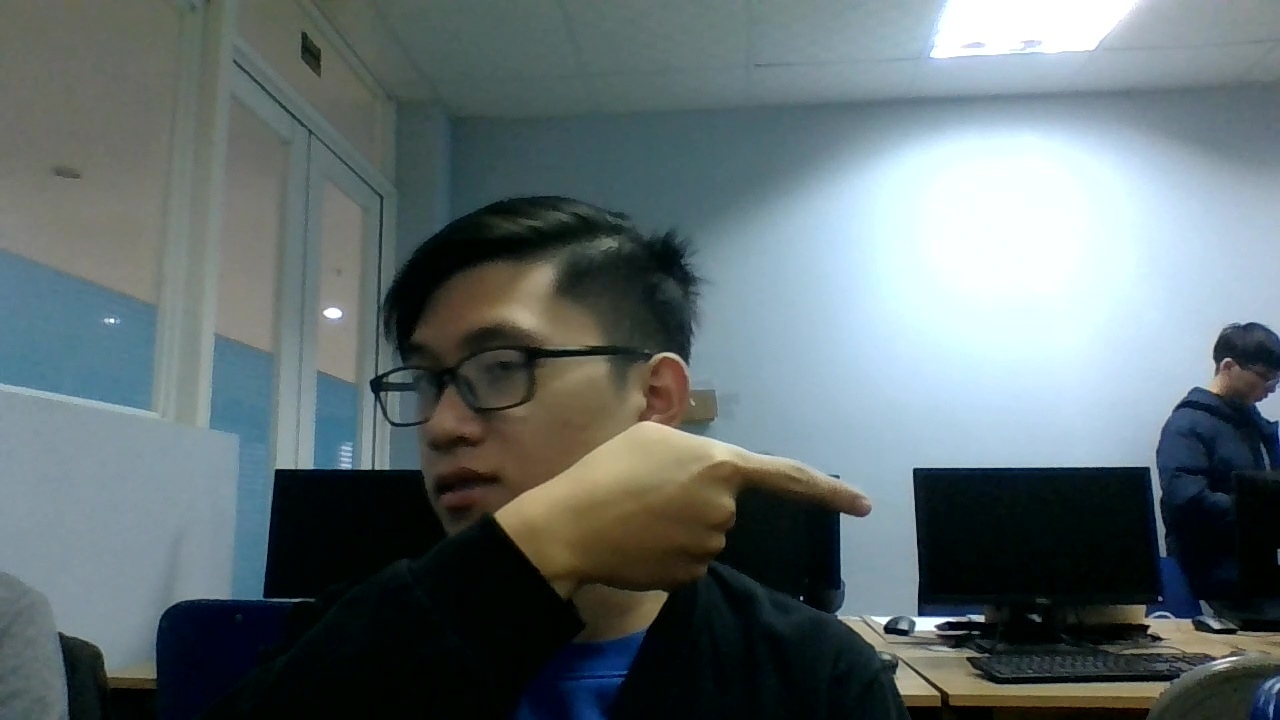left: (561, 409, 877, 605)
